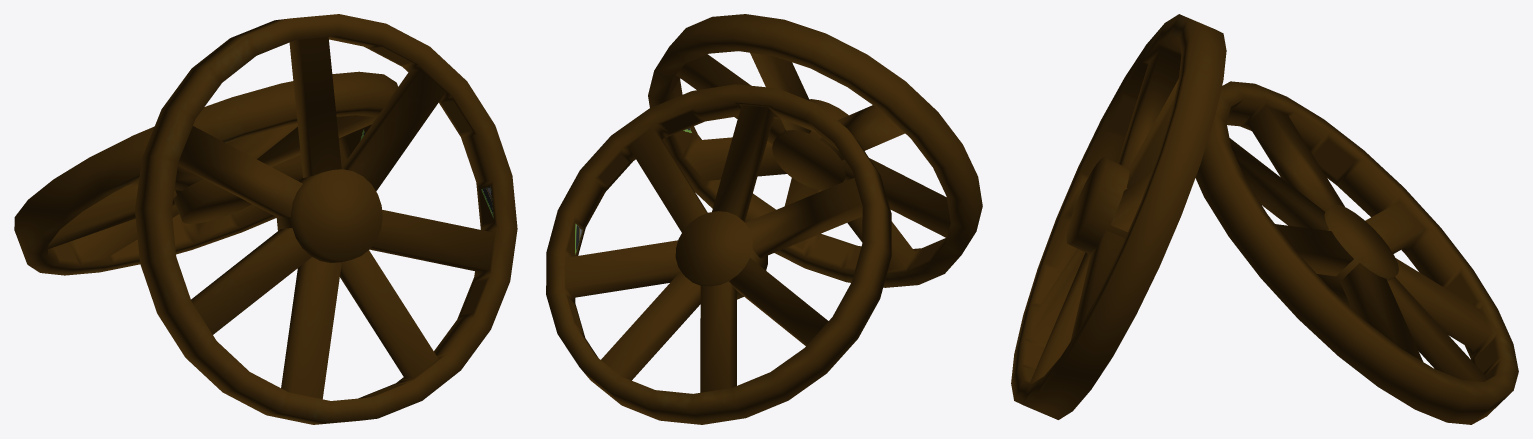
Rendered from Roda.fbx.
3 renders of one model, left to right at view 1: azimuth 30°, elevation 25°; view 2: azimuth 150°, elevation 25°; view 3: azimuth 270°, elevation 25°, orthographic. The views are drawn at different scales.
Parts seen in each view (by area): view 1: Roda_Antiga; view 2: Roda_Antiga; view 3: Roda_Antiga.
Boxes of the visible parts, box(x1,y1,x2,y2) form: Roda_Antiga: box(14, 14, 517, 424); Roda_Antiga: box(546, 14, 982, 424); Roda_Antiga: box(1011, 14, 1518, 424).
Bounding box in the file's own units: 86.34 × 81.13 × 103.
